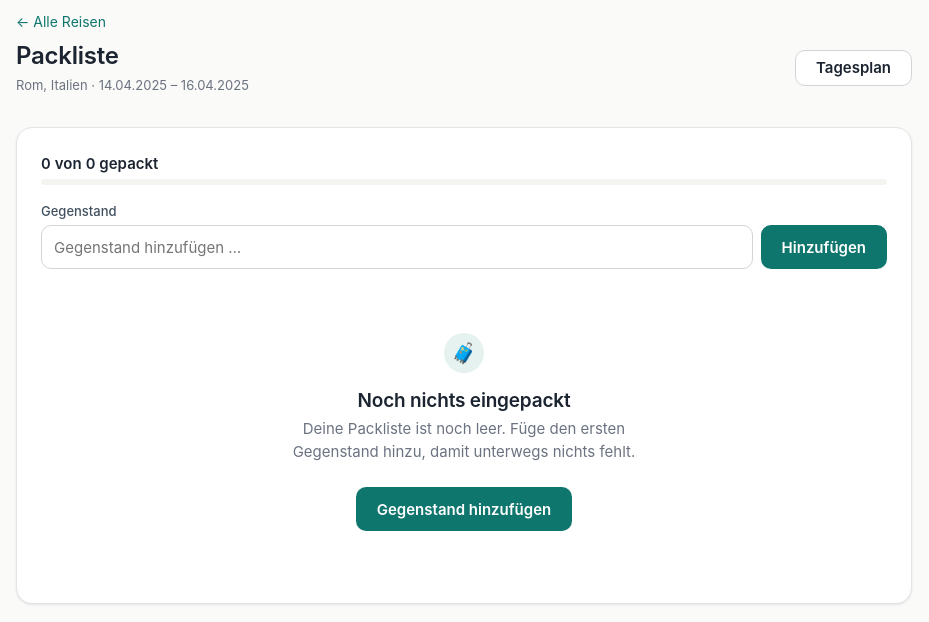
PackingPage › adds an item through the form and updates the counter
Type "Reisepass" into the field labelled "Gegenstand" at (397, 247), box [41,225,753,269]
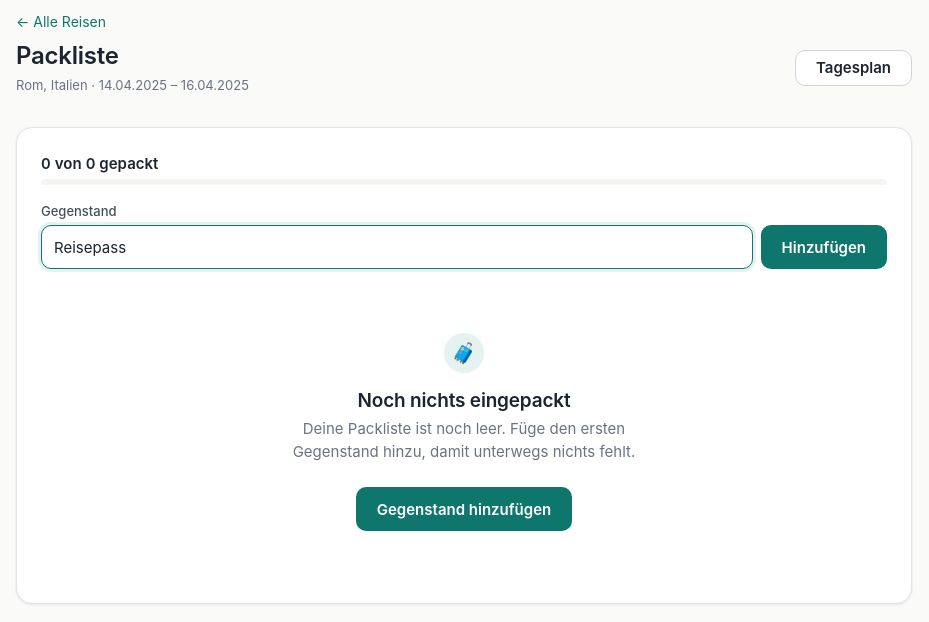
Click the button "Hinzufügen" at (824, 247), box [761,225,887,269]
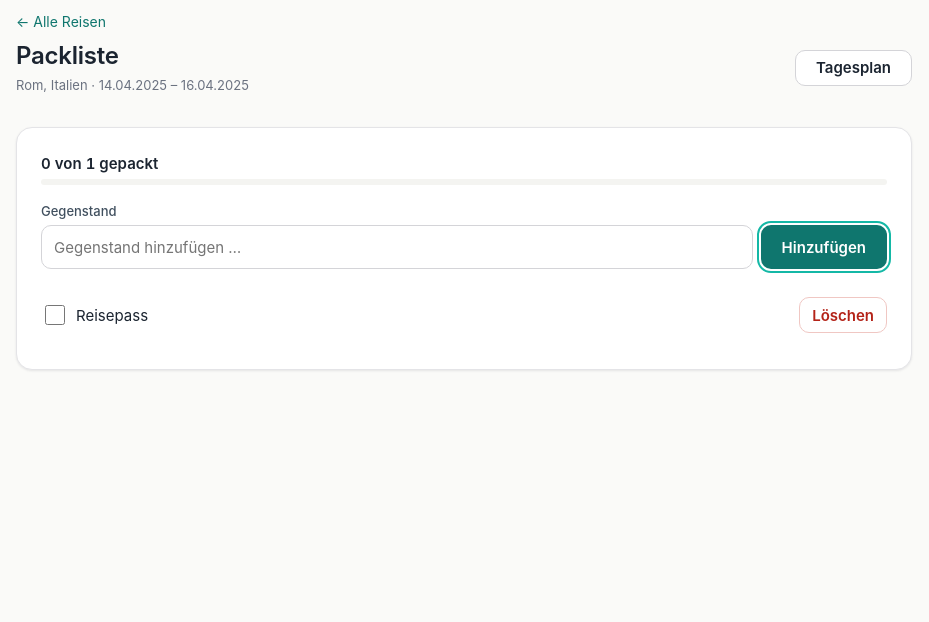
Check: the text "Reisepass" is shown, box [76,304,148,327]
Check: the text "0 von 1 gepackt" is shown, box [41,154,158,173]
Check: the field labelled "Gegenstand" is empty, box [41,225,753,269]
